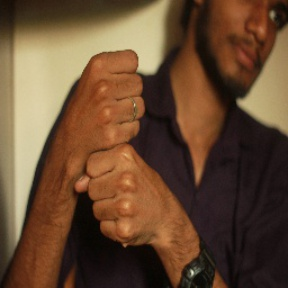G: (52, 46, 168, 250)
